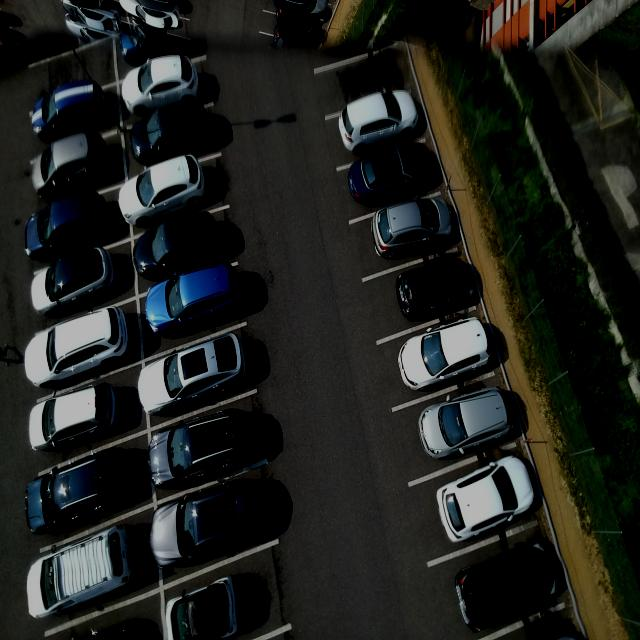car: (451, 538, 561, 637), (25, 524, 132, 622), (139, 331, 253, 419), (151, 481, 262, 570), (24, 448, 132, 538), (437, 455, 537, 548), (23, 308, 131, 392), (417, 385, 517, 466), (145, 258, 245, 338), (150, 409, 251, 486), (394, 319, 494, 394), (134, 211, 225, 287), (28, 248, 124, 319), (365, 195, 460, 266), (31, 384, 120, 459), (23, 192, 112, 267), (120, 157, 209, 228), (162, 572, 254, 640), (348, 140, 437, 209), (395, 257, 477, 329), (131, 97, 213, 168), (338, 91, 425, 157), (31, 132, 115, 200), (31, 79, 110, 143), (124, 56, 202, 116)
free_space: (312, 37, 423, 125), (23, 31, 124, 122)
